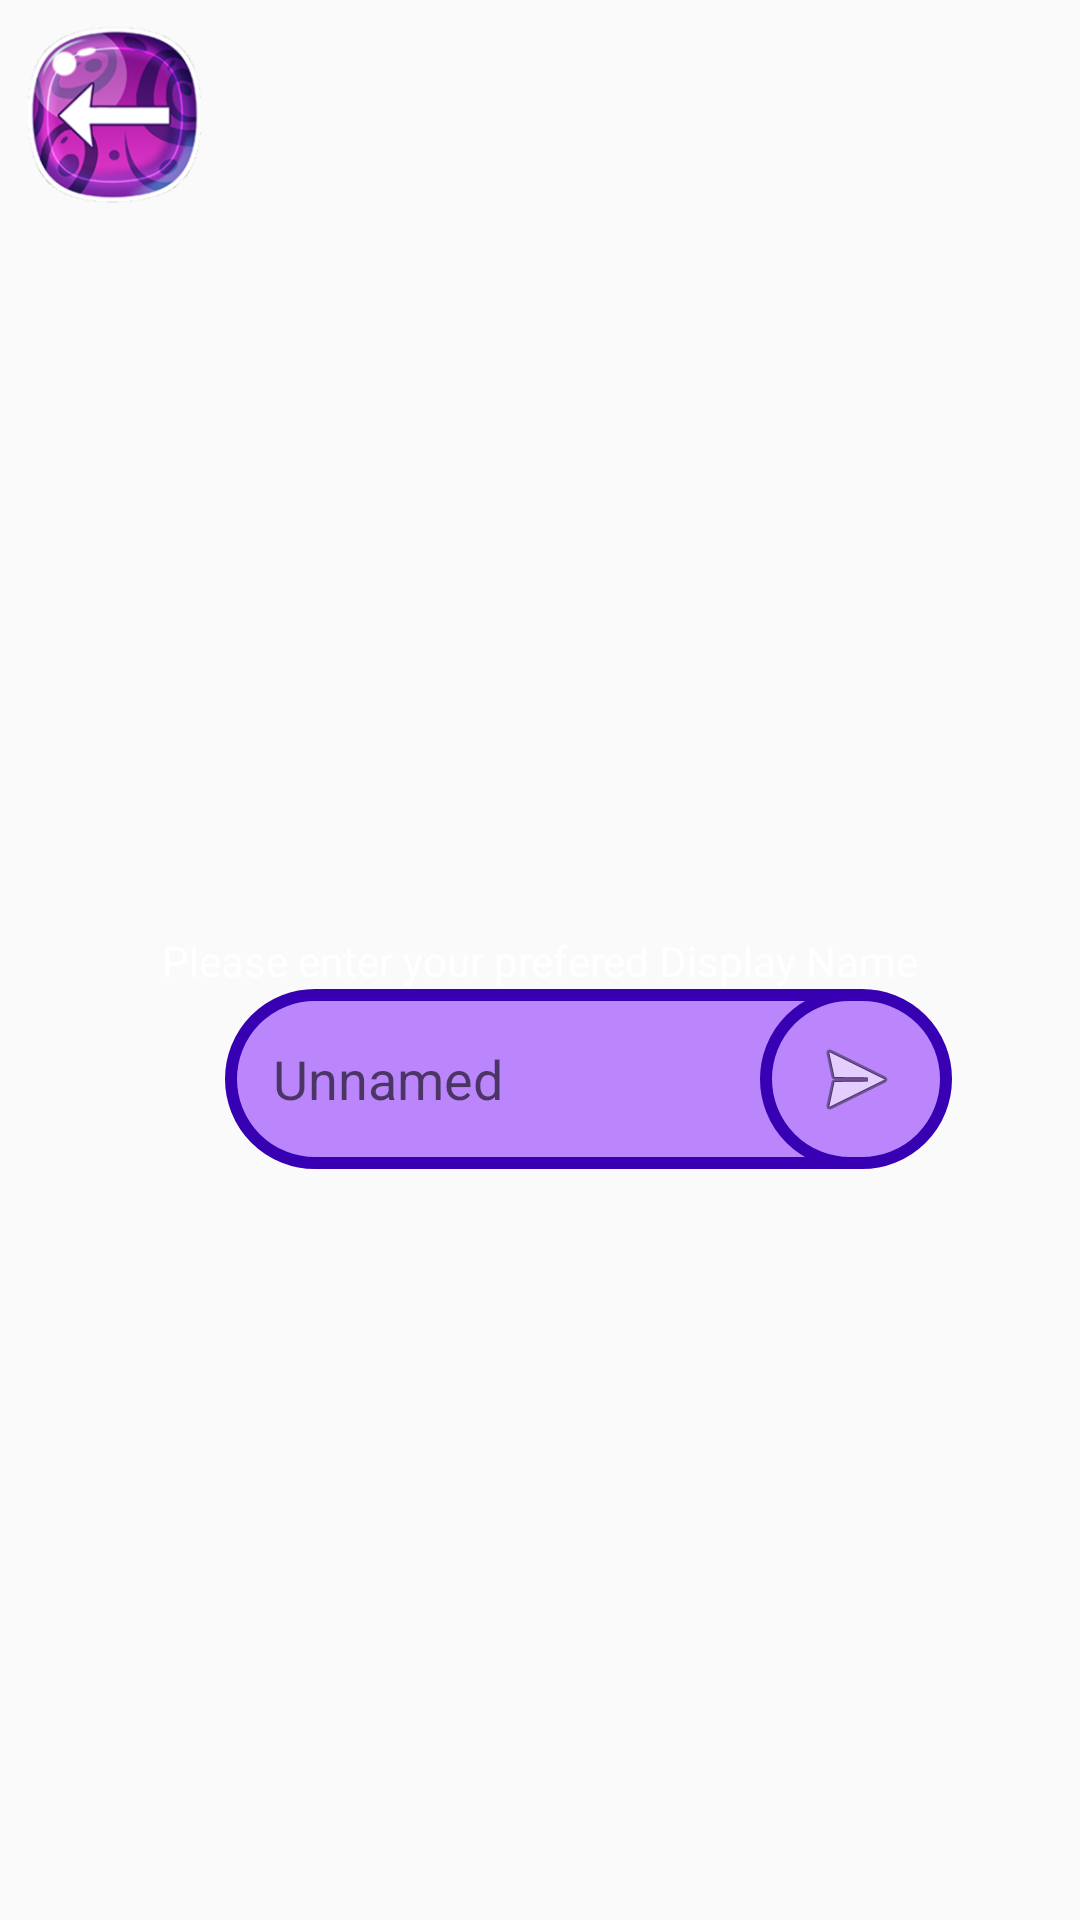

Named icons in this screenshot (1080 × 1920) and their centers, [x,y]:
send: [856,1079]
